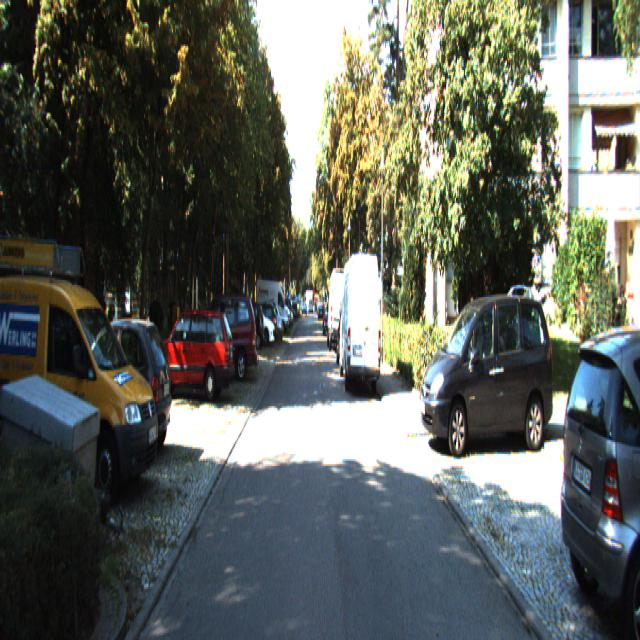Car: (0, 223, 161, 511), (562, 312, 640, 638), (0, 375, 126, 562), (419, 284, 556, 452), (57, 313, 173, 458), (146, 311, 236, 409), (187, 292, 257, 386), (338, 246, 382, 382), (255, 276, 291, 334), (327, 266, 349, 350), (231, 303, 264, 352)
